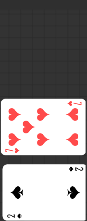2C: (67, 166, 84, 173)
7H: (66, 101, 82, 108)
